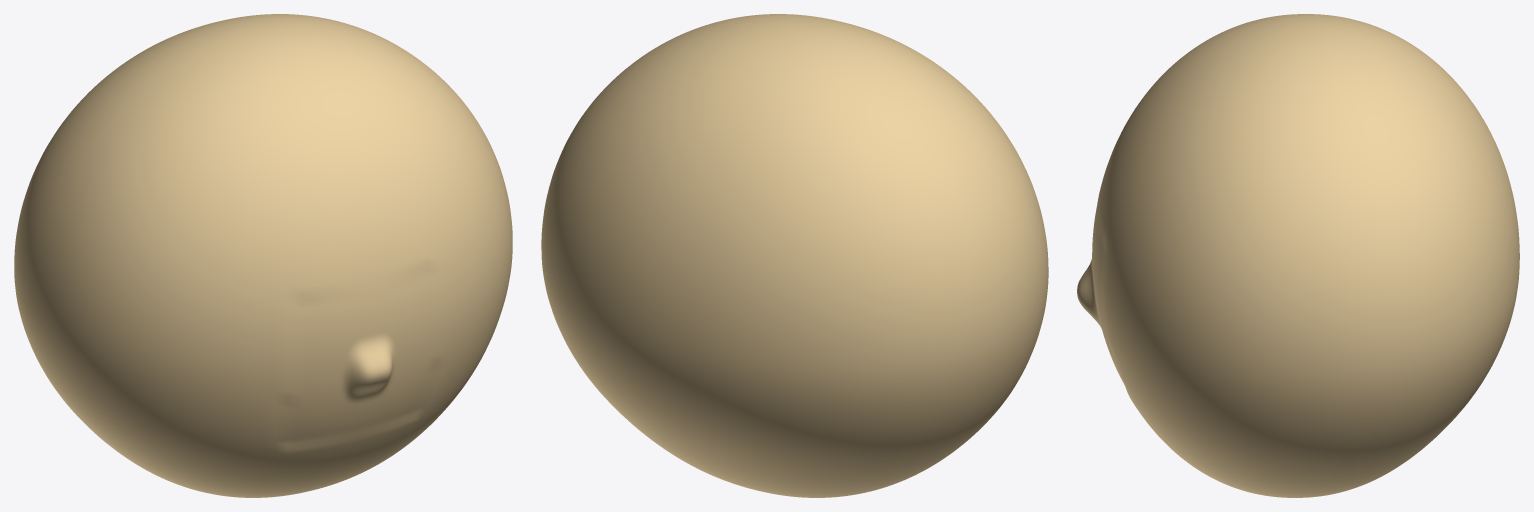
Rendered from Masculine-nose-soft.glb.
3 views of the same model, side by side, from view 1: azimuth 30°, elevation 25°; view 2: azimuth 150°, elevation 25°; view 3: azimuth 270°, elevation 25° (orthographic). The views are drawn at different scales.
Visible parts, largest first — view 1: Skin / integrated nose182; view 2: Skin / integrated nose182; view 3: Skin / integrated nose182.
Boxes of the visible parts, box(x1,y1,x2,y2) form: Skin / integrated nose182: box(14, 14, 512, 497); Skin / integrated nose182: box(541, 14, 1048, 497); Skin / integrated nose182: box(1077, 14, 1519, 497).
Size of the model in its own units: 0.96 by 0.91 by 0.8384.
